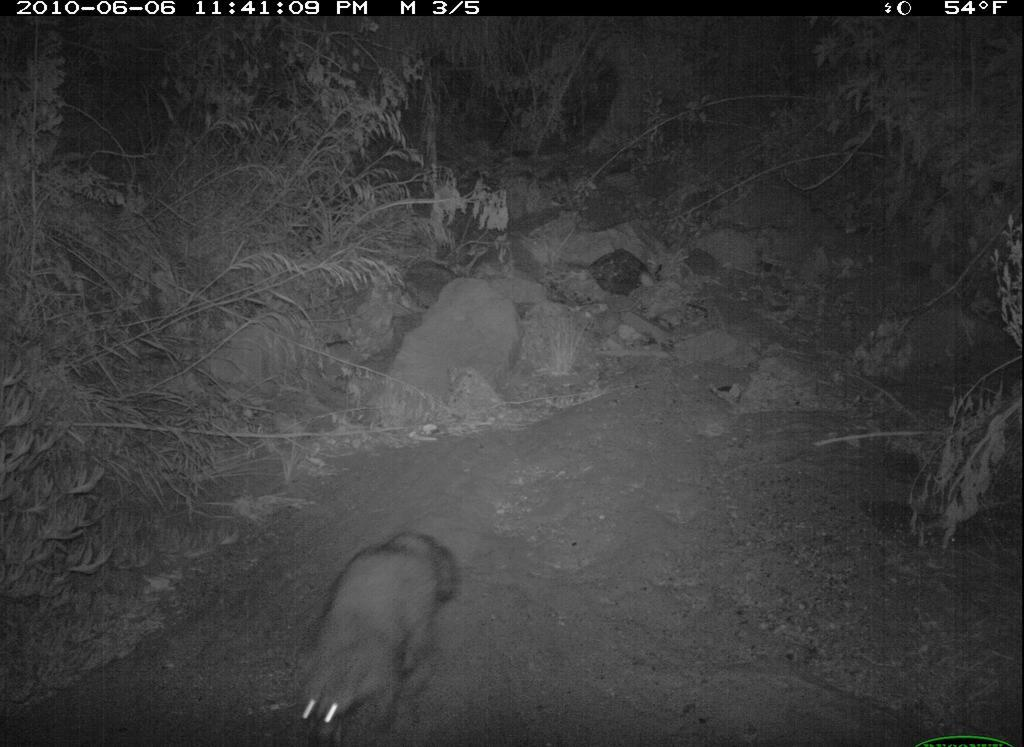raccoon: (292, 520, 475, 747)
